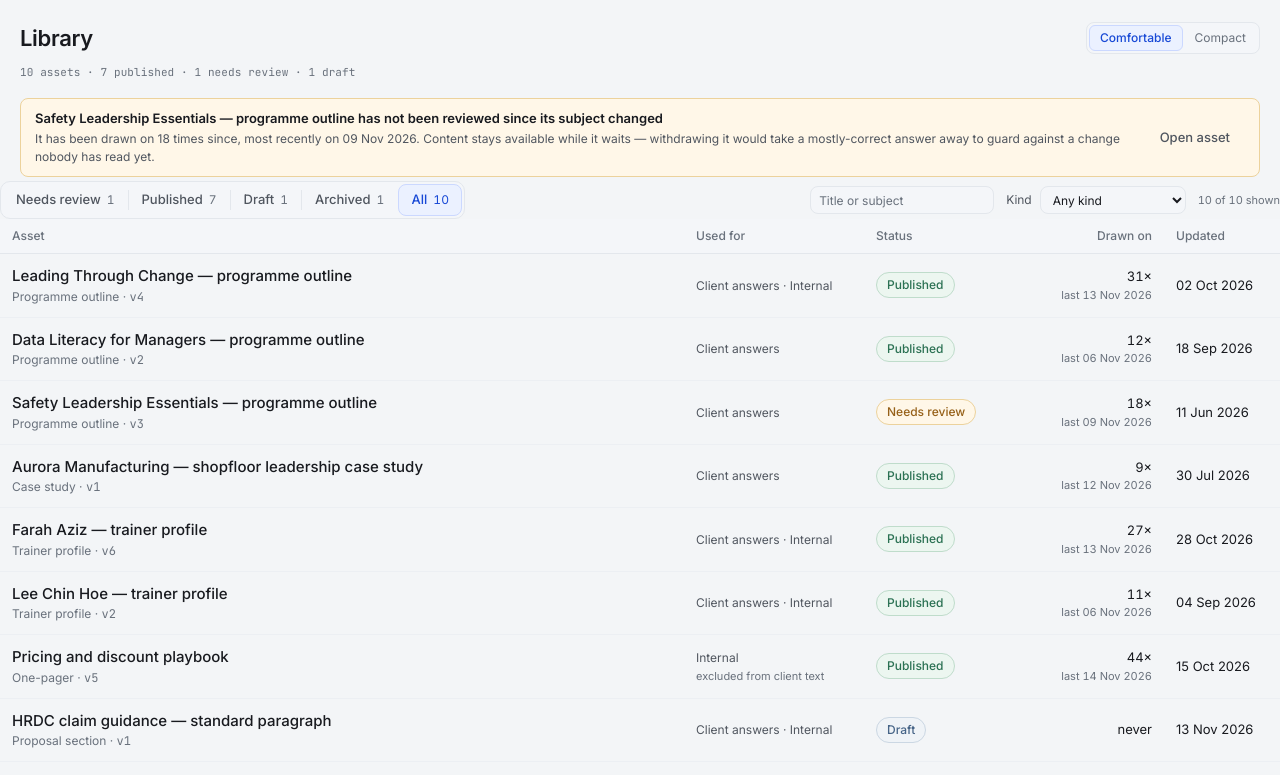
Test case: Knowledge › Library › opens the file's machinery rather than giving it a column
Click the text "Pricing and discount playbook" at (640, 666), box [0, 634, 1279, 698]
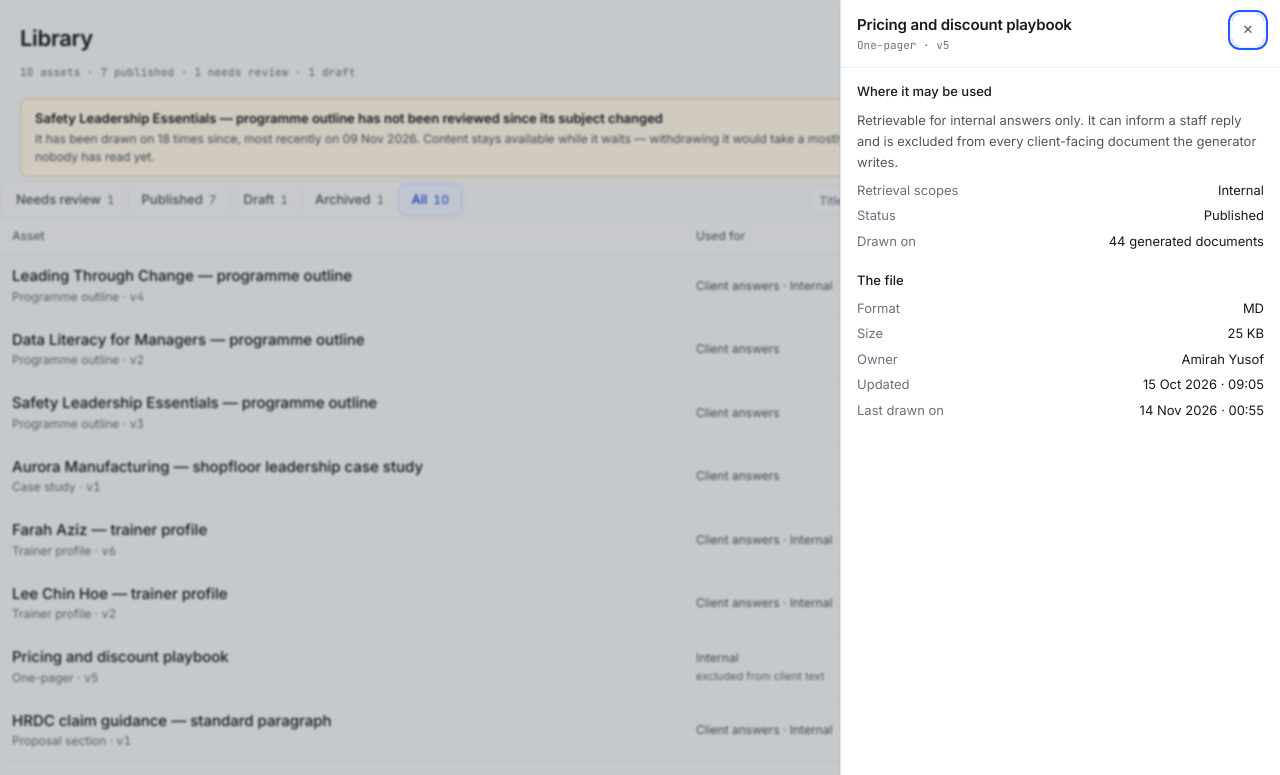
Check: the heading "Where it may be used" is shown, box [857, 83, 992, 99]
Check: the text "excluded from every client-facing document" is shown, box [857, 112, 1256, 170]
Check: the heading "The file" is shown, box [857, 272, 904, 288]
